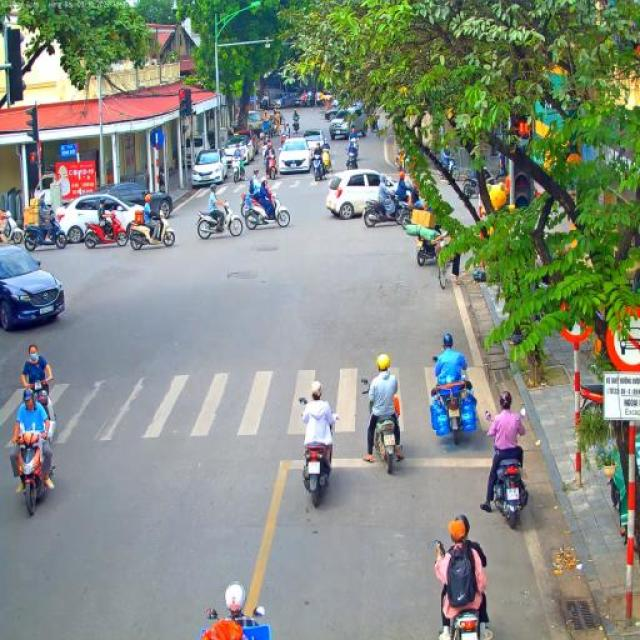car: (0, 241, 65, 331), (56, 191, 148, 244), (325, 168, 400, 221), (86, 180, 173, 219), (192, 149, 228, 189), (328, 104, 368, 140), (276, 137, 310, 174), (224, 134, 250, 168), (233, 128, 255, 160), (300, 128, 326, 152), (323, 102, 347, 122), (270, 91, 295, 109), (291, 88, 308, 104)
motorcycle: (427, 540, 484, 640), (485, 410, 529, 530), (299, 397, 339, 507), (431, 356, 479, 446), (361, 378, 401, 474), (14, 429, 56, 517), (199, 605, 271, 640), (240, 189, 291, 230), (24, 377, 56, 442), (195, 200, 244, 240), (83, 208, 129, 250), (23, 209, 68, 251), (130, 211, 176, 250), (363, 194, 412, 228), (416, 232, 448, 266), (462, 166, 497, 196), (0, 213, 24, 244), (396, 202, 419, 230), (438, 155, 460, 183), (580, 384, 604, 404), (345, 138, 359, 171), (265, 154, 280, 180), (311, 154, 325, 181), (231, 154, 244, 182), (320, 148, 332, 176), (260, 145, 270, 171), (292, 116, 300, 132), (280, 132, 286, 148)
truck: (260, 70, 298, 98), (248, 111, 262, 138)
